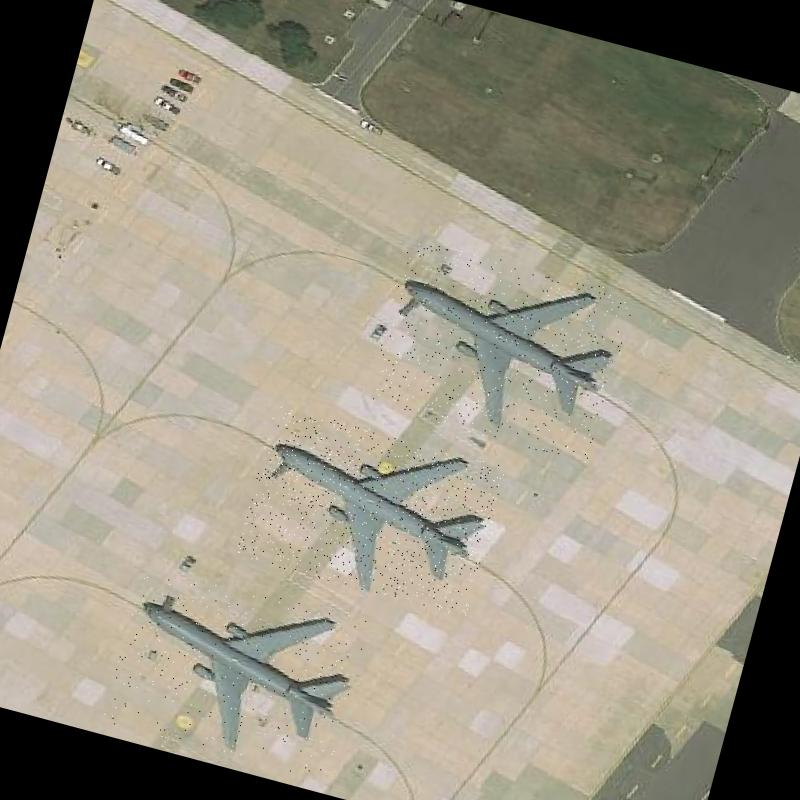A18: (363, 235, 635, 464), (102, 560, 369, 780), (235, 404, 506, 617)
